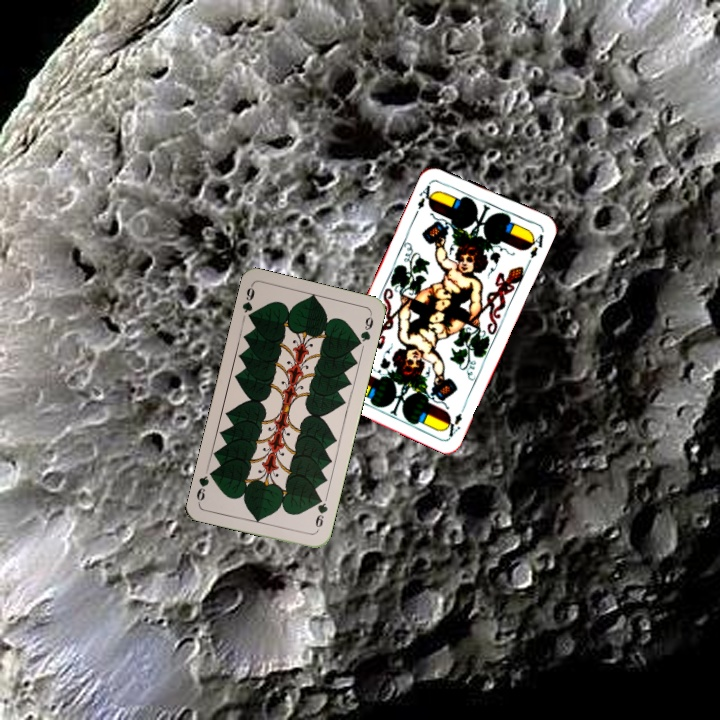EA: (411, 178, 438, 217), (442, 409, 465, 439)
G9: (311, 493, 330, 534), (238, 282, 257, 323)
